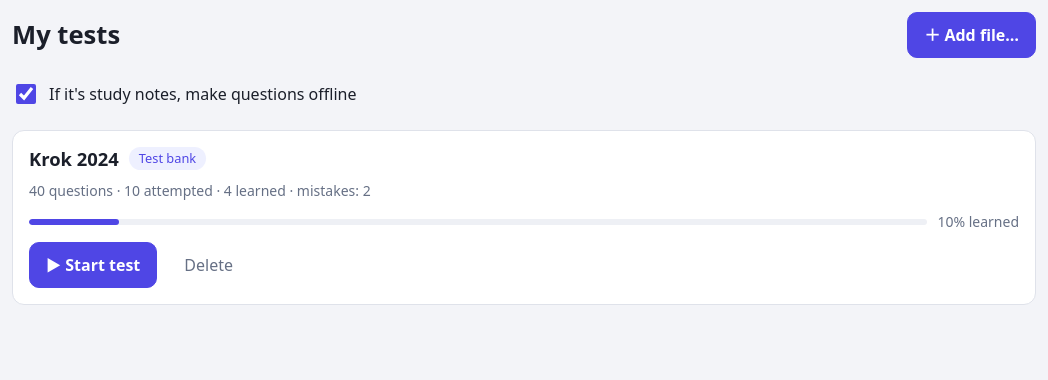
it: Library › asks before deleting
Expected: the heading "Krok 2024" is shown, [29,147,119,170]
Click the button "Delete". click: (209, 265)
box: [167,242,250,288]
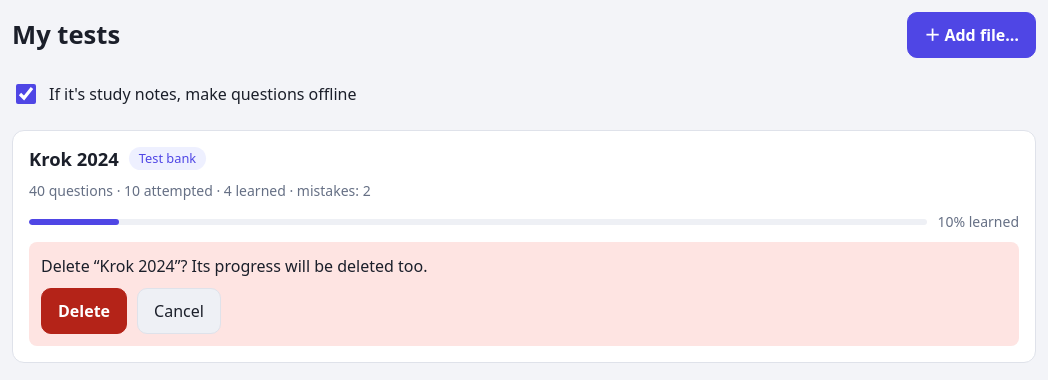
Result: the text "Delete “Krok 2024”? Its progress will be deleted too." is shown at [41,255,428,277]
Click the button "Cancel". click: (179, 311)
box: [137,288,221,334]
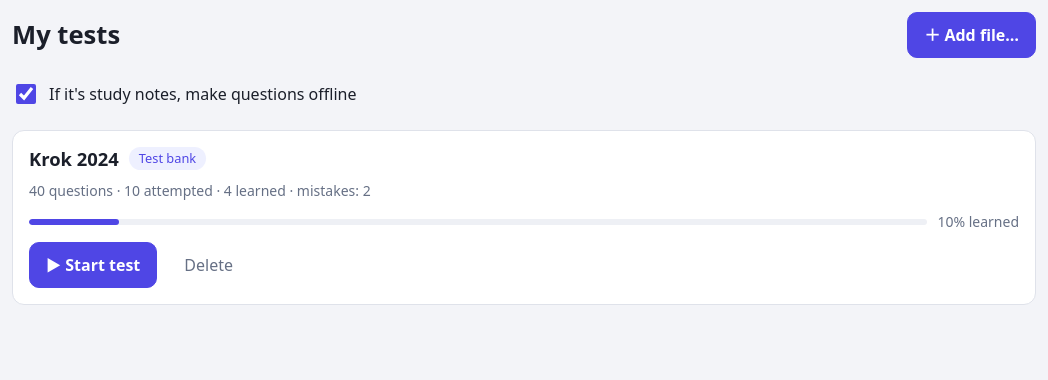
Click the button "Delete". click: (209, 265)
box: [167,242,250,288]
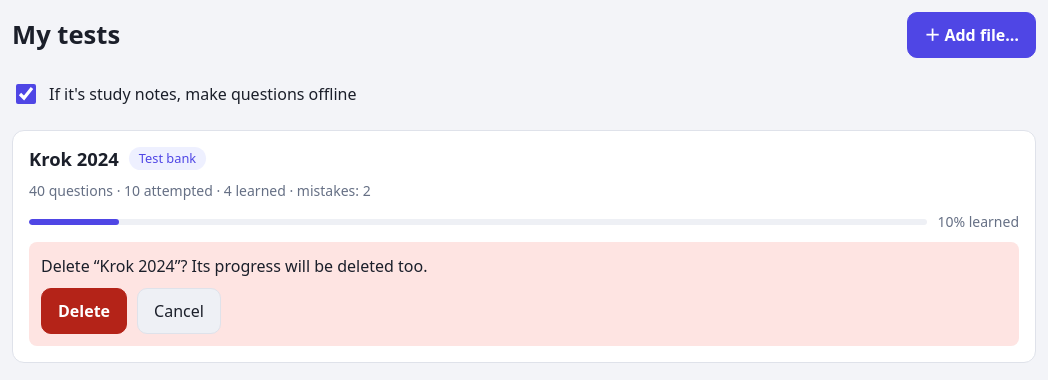
Click the button "Delete". click: (84, 311)
box: [41,288,127,334]
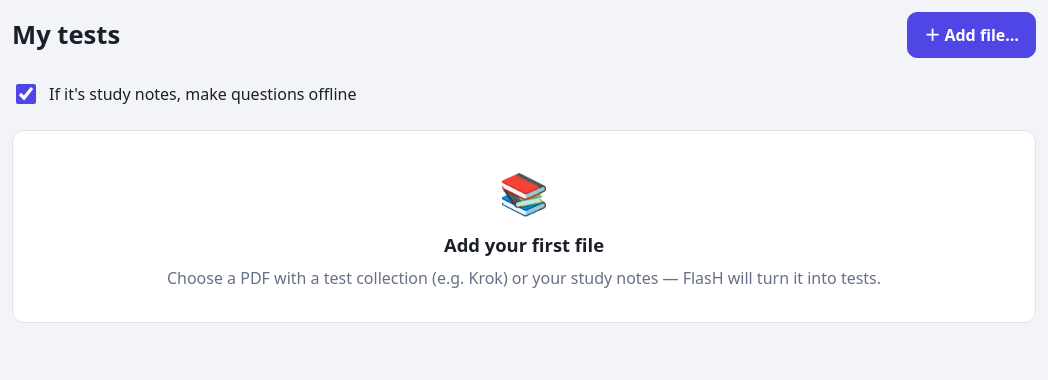
Result: the heading "Add your first file" is shown at [444,233,604,256]
